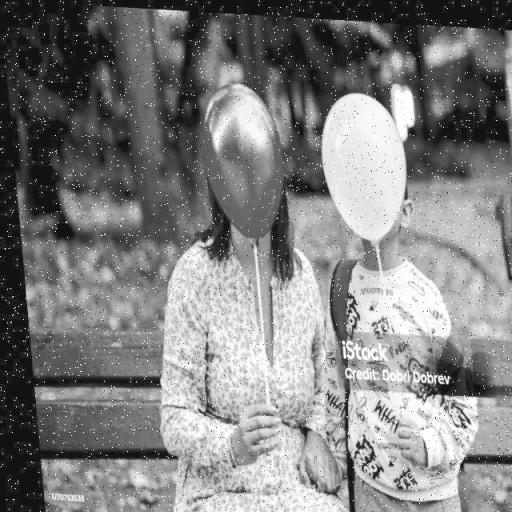balloon: (194, 72, 288, 248)
